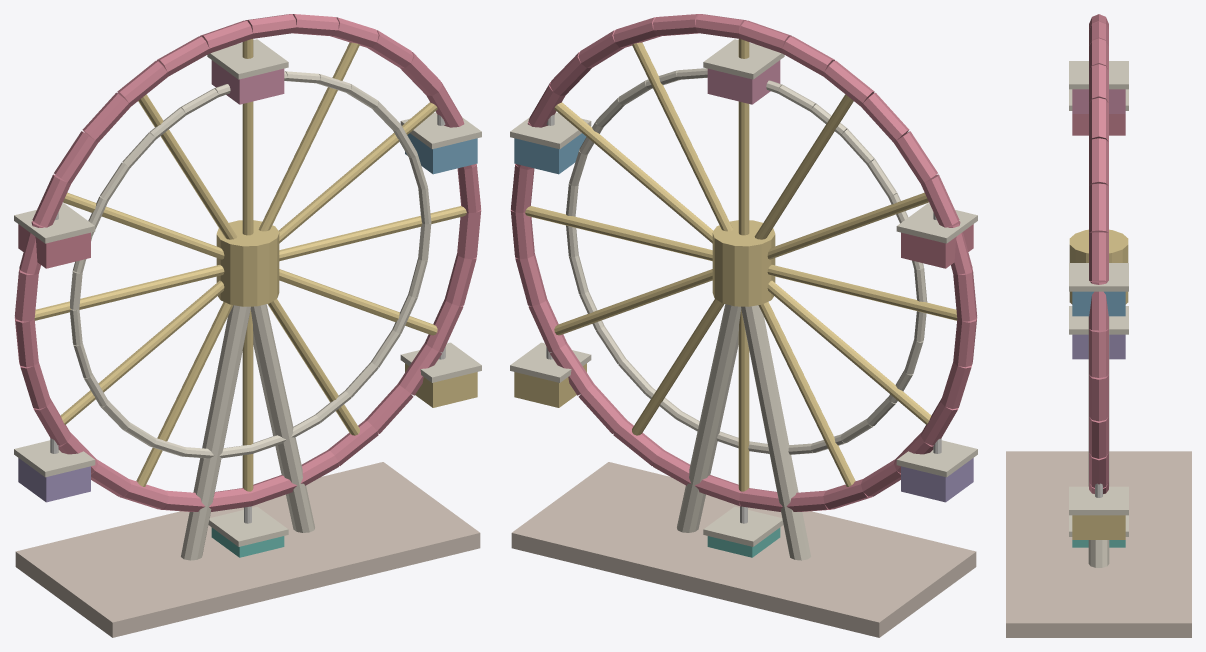
The model's file is ferris_wheel.glb.
3 renders of one model, left to right at view 1: azimuth 30°, elevation 25°; view 2: azimuth 150°, elevation 25°; view 3: azimuth 270°, elevation 25°, orthographic. The views are drawn at different scales.
Visible parts, largest first — view 1: ferris_wheel; view 2: ferris_wheel; view 3: ferris_wheel.
Boxes of the visible parts, x1,y1,x2,y2 form: ferris_wheel: (14, 14, 481, 637); ferris_wheel: (510, 14, 977, 637); ferris_wheel: (1006, 14, 1191, 637).
Size of the model in its own units: 8.84 by 9.77 by 3.2.
